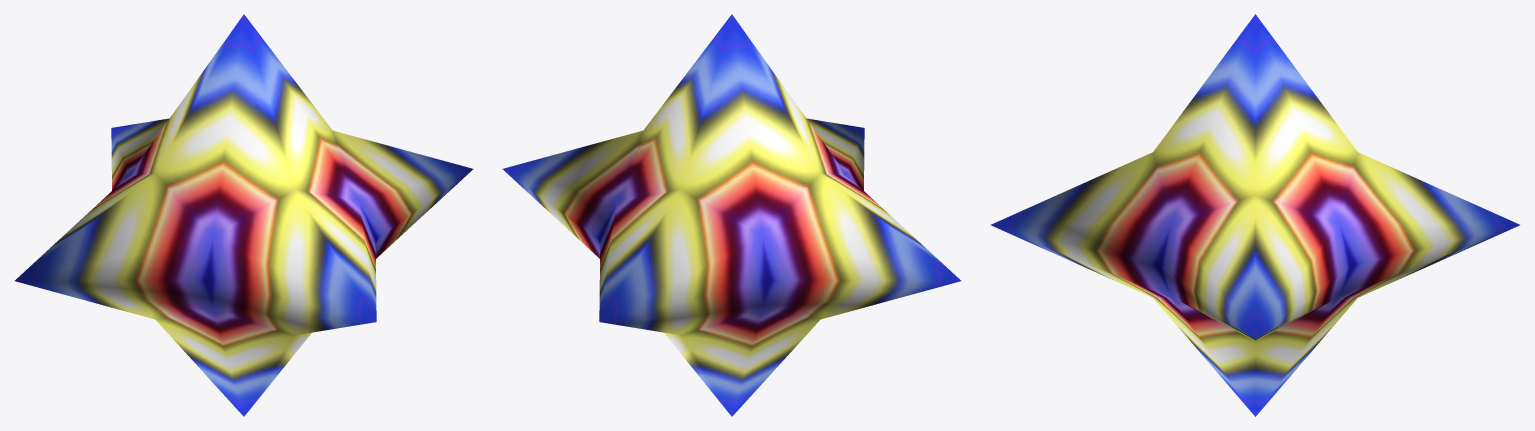
Rendered from misc-08.fbx.
3 views of the same model, side by side, from view 1: azimuth 30°, elevation 25°; view 2: azimuth 150°, elevation 25°; view 3: azimuth 270°, elevation 25° (orthographic).
Visible parts, largest first — view 1: misc-08; view 2: misc-08; view 3: misc-08.
Boxes of the visible parts, x1,y1,x2,y2 form: misc-08: (15, 14, 473, 416); misc-08: (502, 14, 960, 416); misc-08: (991, 14, 1519, 416).
Size of the model in its own units: 37.24 by 31.22 by 37.24.
